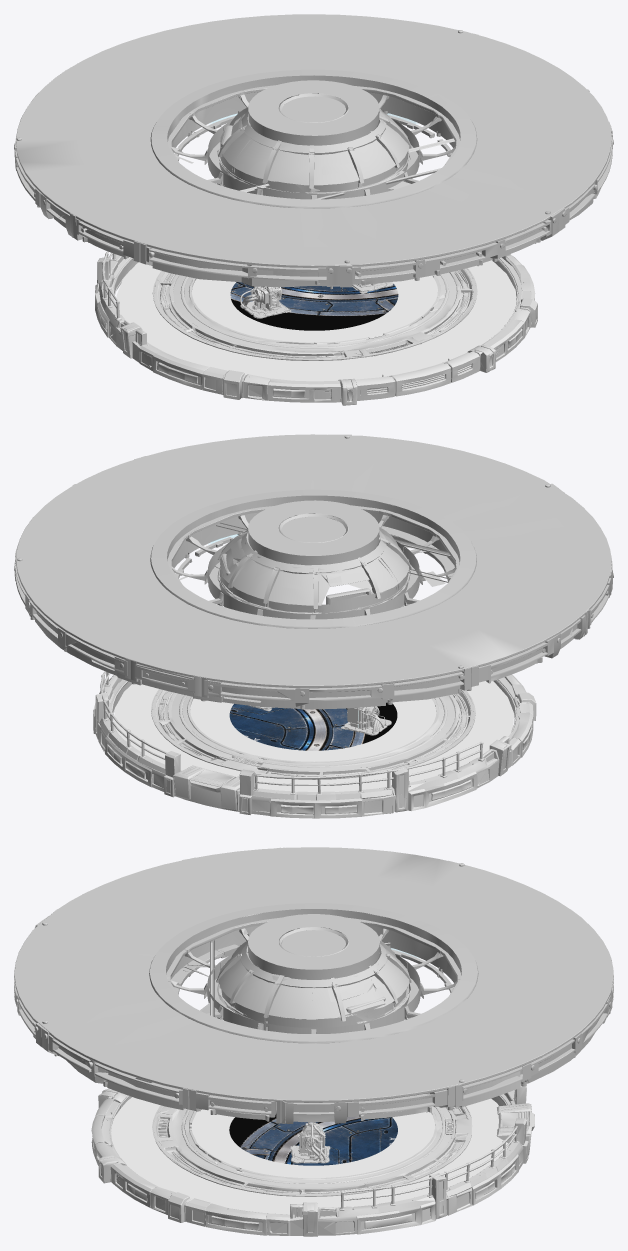
File: WireSet.fbx
The picture shows the model from 3 angles, top to bottom: view 1: azimuth 30°, elevation 25°; view 2: azimuth 150°, elevation 25°; view 3: azimuth 270°, elevation 25°; orthographic projection.
Parts seen in each view (by area): view 1: Space Ring 1, Circular Platform 4, Floor Disc 1, Floor Grating 1, Terminal Machine 2, Circular Platform 1; view 2: Space Ring 1, Circular Platform 4, Floor Disc 1, Floor Grating 1, Circular Platform 1, Terminal Machine 2; view 3: Space Ring 1, Circular Platform 4, Floor Disc 1, Floor Grating 1, Terminal Machine 1, Circular Platform 1.
Boxes of the visible parts, x1,y1,x2,y2 form: Space Ring 1: [14, 14, 613, 289]; Circular Platform 4: [95, 251, 537, 405]; Floor Disc 1: [116, 260, 516, 381]; Floor Grating 1: [230, 282, 398, 330]; Terminal Machine 2: [240, 286, 291, 318]; Circular Platform 1: [97, 303, 522, 397]; Space Ring 1: [14, 434, 613, 709]; Circular Platform 4: [93, 671, 536, 818]; Floor Disc 1: [114, 681, 514, 791]; Floor Grating 1: [229, 702, 397, 750]; Circular Platform 1: [107, 723, 532, 814]; Terminal Machine 2: [341, 706, 391, 735]; Space Ring 1: [14, 847, 613, 1123]; Circular Platform 4: [91, 1084, 534, 1236]; Floor Disc 1: [111, 1097, 508, 1214]; Floor Grating 1: [229, 1114, 397, 1165]; Terminal Machine 1: [290, 1122, 330, 1163]; Circular Platform 1: [127, 1164, 515, 1230].
Bounding box in the file's own units: 63.94 × 24.04 × 64.
